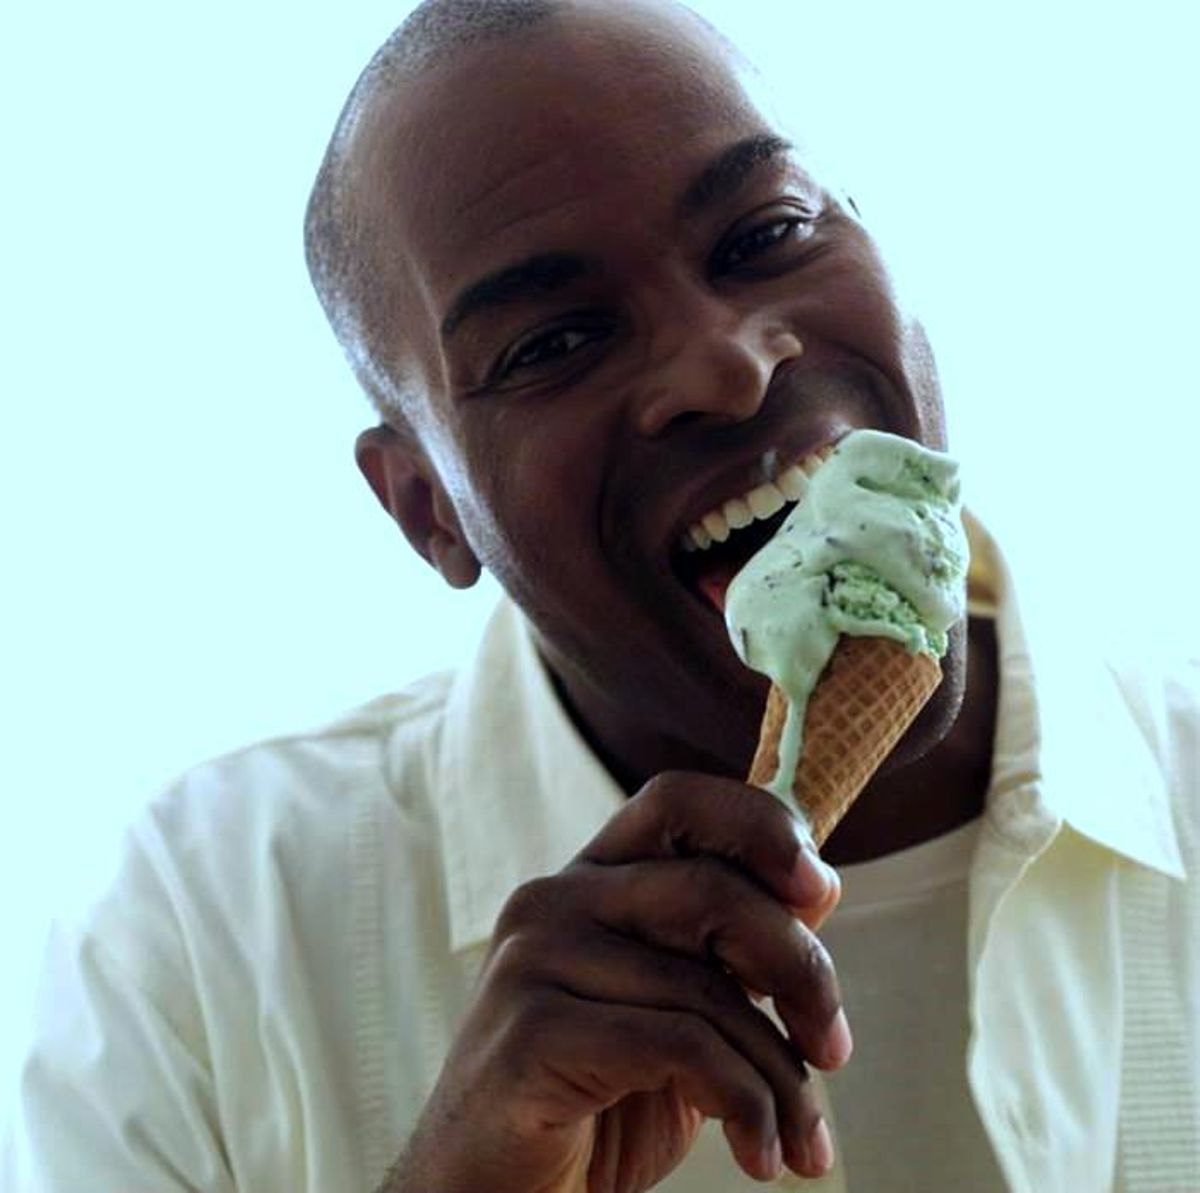eating: (166, 4, 1079, 912)
